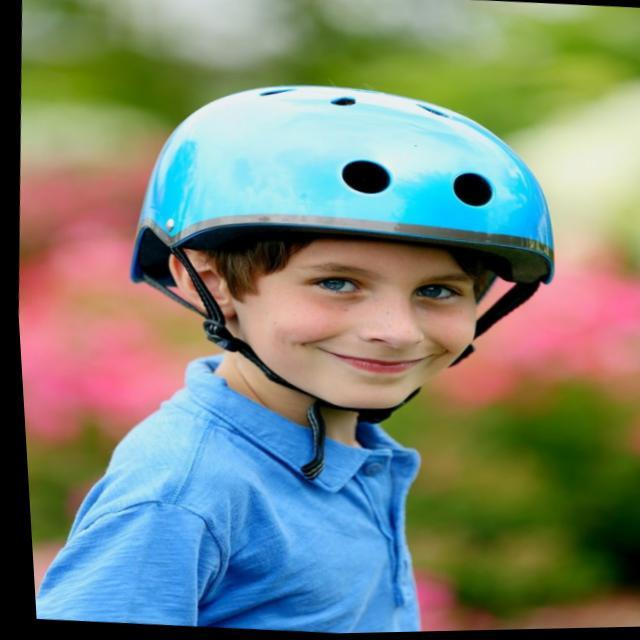Helmet: (134, 67, 550, 425)
